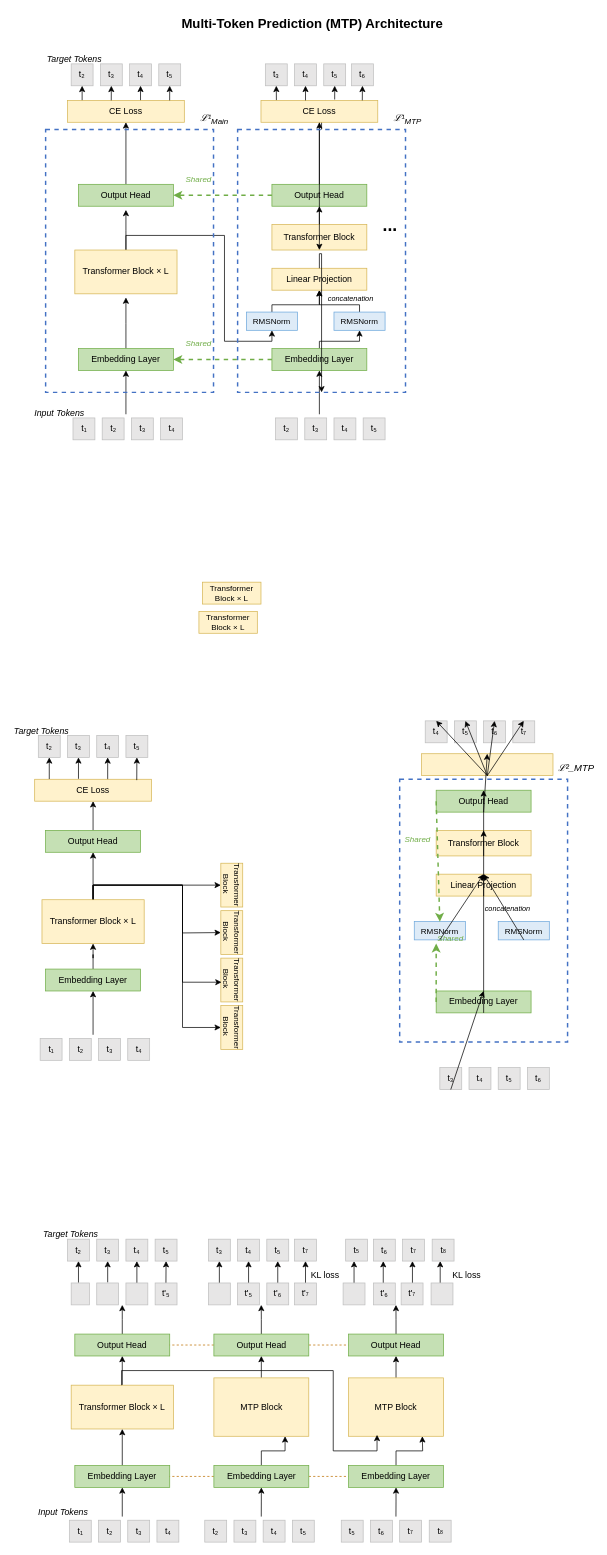
The diagram is 607 pixels wide and 1555 high, and some of its shapes have lost their labels. Each missing label, with the box of its shape:
Cross-Entropy Loss: (421, 753, 553, 776)
Main Model (Next Token Prediction): (45, 128, 214, 393)
MTP Module 1 (Next² Token Prediction): (237, 128, 406, 393)
MTP Module 2 (Next³ Token Prediction): (399, 778, 568, 1042)
t ' ₄: (208, 1282, 230, 1305)
t' 5: (342, 1282, 365, 1305)
t' 8: (430, 1282, 453, 1305)
t'₂: (70, 1282, 89, 1305)
t'₃: (96, 1282, 119, 1305)
t'₄: (125, 1282, 148, 1305)
